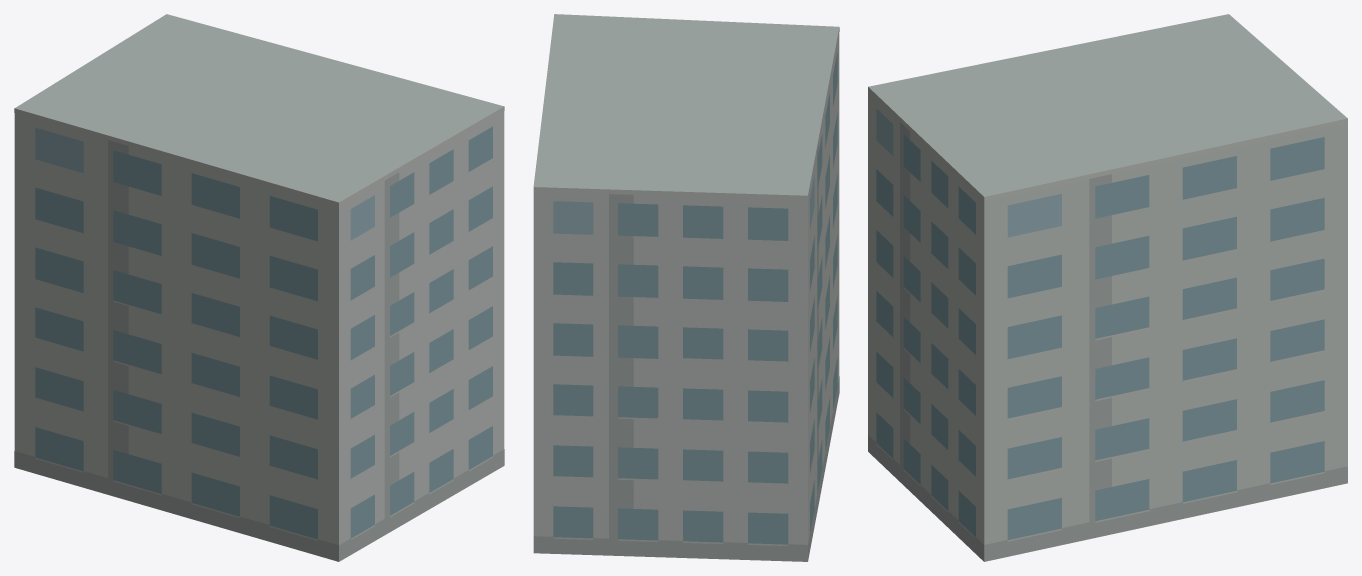
File: survey-upis-32748244.glb
3 views of the same model, side by side, from view 1: azimuth 30°, elevation 25°; view 2: azimuth 150°, elevation 25°; view 3: azimuth 270°, elevation 25° (orthographic).
Visible parts, largest first — view 1: survey-upis-32748244.tmp; view 2: survey-upis-32748244.tmp; view 3: survey-upis-32748244.tmp.
Part boxes in pixels (x1,y1,x2,y2): survey-upis-32748244.tmp: (14,14,504,561); survey-upis-32748244.tmp: (533,14,839,561); survey-upis-32748244.tmp: (868,14,1347,561).
Size of the model in its own units: 20.56 by 19.1 by 22.77.
